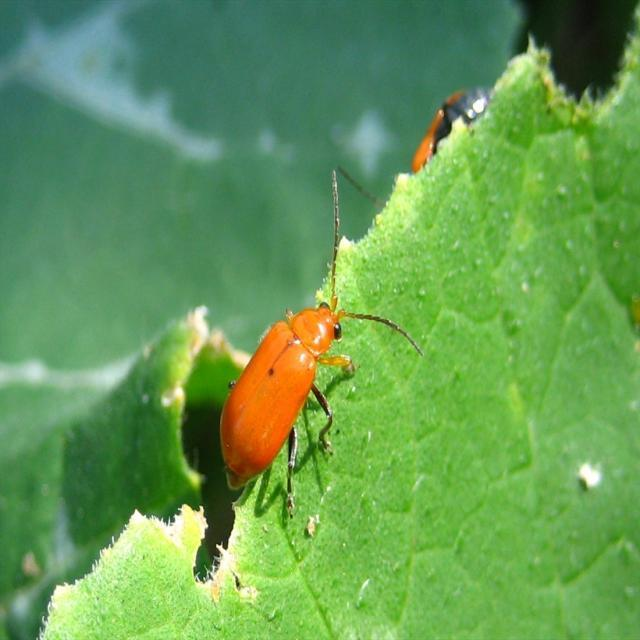Pumpkin Beetle: (216, 155, 426, 523)
